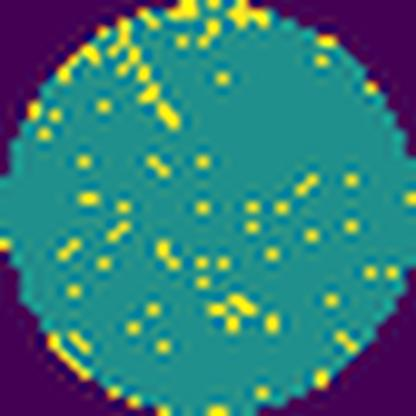Scratch: (106, 19, 184, 128)
